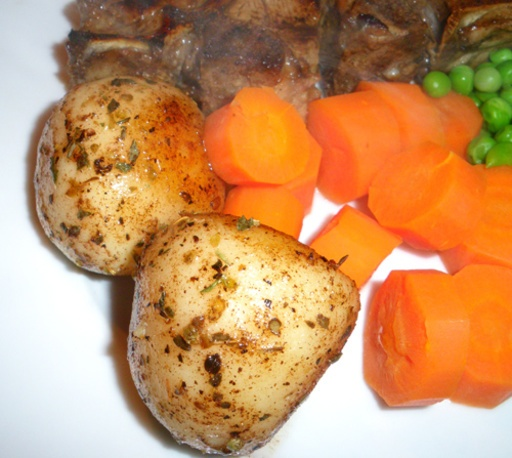background: (26, 0, 409, 328)
